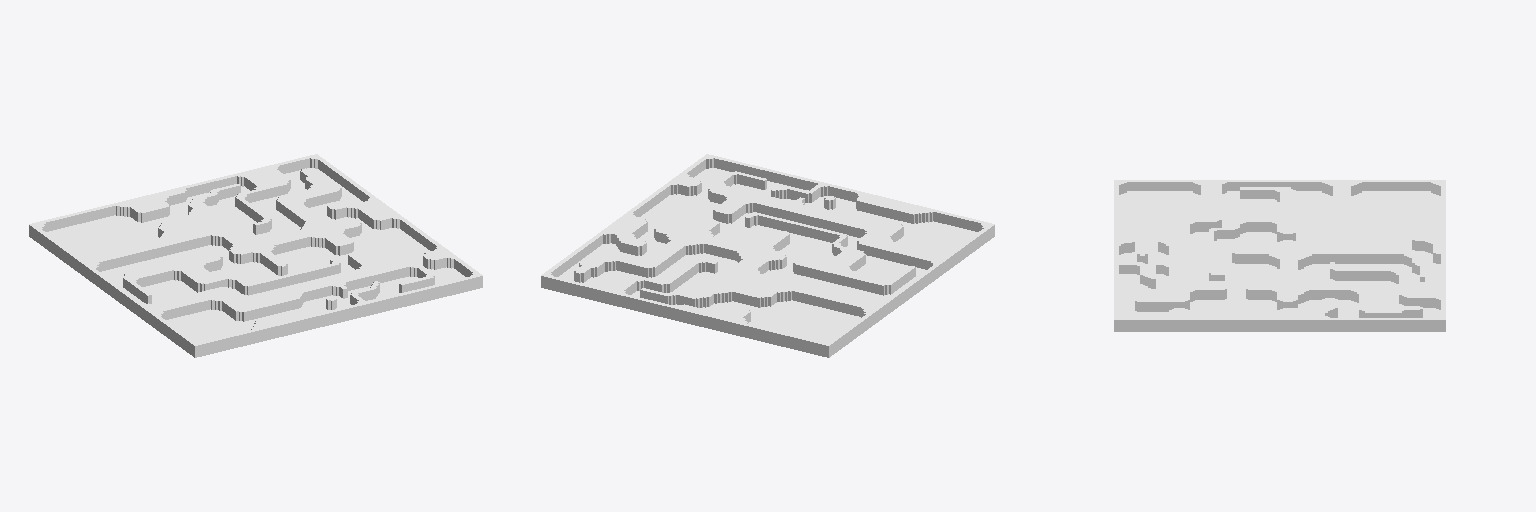
File: Main.obj
3 views of the same model, side by side, from view 1: azimuth 30°, elevation 25°; view 2: azimuth 150°, elevation 25°; view 3: azimuth 270°, elevation 25° (orthographic).
Size of the model in its own units: 126 by 5 by 126.